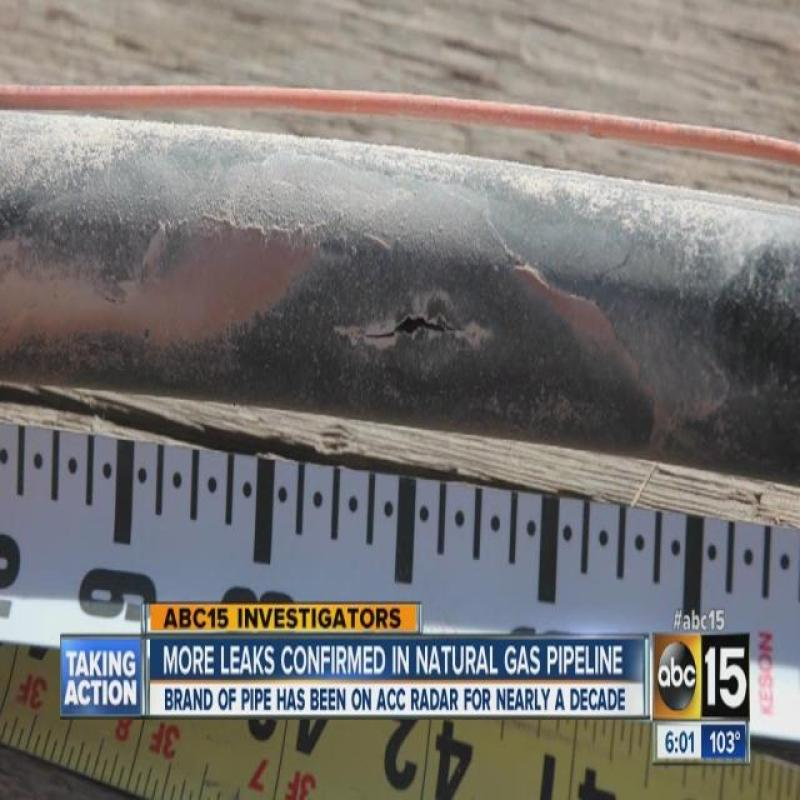Fracture: (216, 249, 537, 412)
